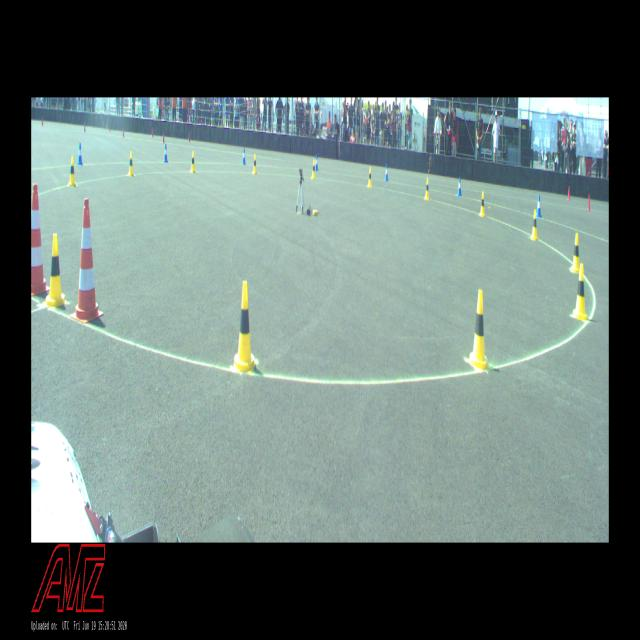blue_cone: (77, 142, 83, 165), (536, 195, 542, 218), (457, 177, 462, 196), (164, 144, 168, 162), (242, 148, 246, 165), (384, 164, 388, 181), (315, 154, 318, 170)
large_orange_cone: (70, 199, 104, 323), (31, 184, 50, 296)
unknown_cone: (587, 194, 590, 210), (567, 186, 570, 200), (162, 132, 165, 143), (122, 127, 125, 138), (188, 132, 190, 142), (108, 122, 110, 132), (152, 128, 154, 137), (84, 123, 86, 132), (42, 117, 44, 125)
yellow_cone: (232, 281, 256, 374), (468, 289, 491, 371), (45, 234, 66, 308), (572, 264, 588, 322), (570, 233, 580, 273), (68, 156, 76, 186), (531, 209, 538, 240), (127, 152, 135, 176), (190, 152, 196, 172), (480, 192, 485, 216), (311, 159, 316, 179), (367, 167, 372, 187), (425, 178, 429, 200), (253, 154, 257, 174)
